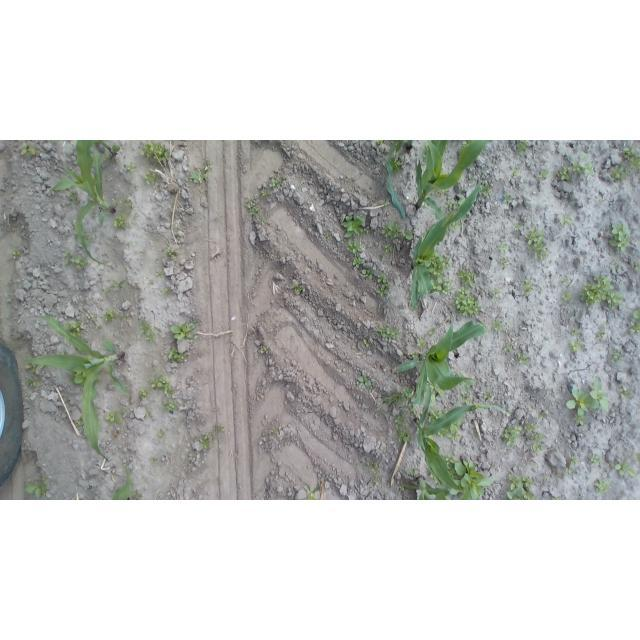Maize: (40, 315, 132, 462), (409, 164, 488, 313), (415, 385, 506, 493), (46, 141, 115, 270), (396, 317, 487, 407), (415, 140, 489, 222), (384, 141, 414, 220), (52, 140, 121, 166), (401, 475, 460, 500), (111, 464, 133, 500), (101, 278, 128, 295)
Weeds: (441, 453, 493, 500), (566, 381, 608, 416), (428, 250, 453, 294), (579, 274, 613, 306), (453, 287, 482, 316), (507, 473, 538, 500), (525, 227, 547, 262), (434, 417, 462, 441), (382, 387, 416, 406), (141, 141, 170, 163), (608, 224, 630, 253), (425, 377, 445, 405), (171, 320, 198, 340), (150, 375, 173, 398), (25, 475, 48, 498), (341, 216, 364, 238), (395, 414, 412, 442), (64, 251, 89, 269), (501, 424, 521, 446), (139, 317, 155, 344), (615, 459, 638, 477), (426, 407, 449, 424), (623, 147, 640, 169), (456, 269, 475, 288), (377, 324, 399, 340), (64, 318, 83, 336), (610, 166, 631, 182), (382, 222, 401, 239), (459, 372, 473, 393), (608, 292, 624, 310), (245, 197, 260, 216), (445, 197, 466, 210), (69, 371, 87, 386), (168, 348, 187, 362), (105, 410, 124, 424), (304, 484, 319, 500), (114, 214, 129, 229), (24, 357, 37, 374), (531, 433, 543, 451), (594, 480, 610, 493), (568, 162, 584, 175), (199, 433, 211, 450), (190, 173, 208, 184), (21, 143, 35, 157), (610, 349, 624, 363), (376, 283, 390, 297), (104, 310, 119, 323), (347, 241, 362, 254), (392, 156, 403, 173), (358, 374, 372, 387), (556, 167, 570, 180), (521, 280, 534, 294), (145, 171, 157, 186), (165, 247, 179, 259), (120, 199, 132, 213), (68, 190, 80, 204), (26, 377, 41, 388), (518, 141, 529, 156), (162, 401, 178, 411), (516, 352, 529, 364), (570, 340, 583, 352), (561, 214, 574, 226), (401, 228, 414, 240), (629, 320, 640, 334), (428, 188, 449, 195), (138, 388, 150, 400), (126, 161, 137, 174), (406, 405, 419, 416), (361, 269, 374, 280), (492, 319, 503, 331), (479, 184, 489, 197), (448, 219, 461, 229), (353, 255, 363, 268), (575, 415, 586, 426), (417, 339, 428, 350), (584, 162, 594, 174), (620, 388, 631, 398), (460, 393, 471, 403), (562, 292, 572, 303), (539, 170, 550, 180), (499, 258, 510, 268), (510, 167, 520, 177), (270, 179, 281, 188), (371, 463, 380, 474), (477, 321, 488, 330), (524, 423, 536, 431), (590, 455, 600, 464), (128, 490, 138, 499), (292, 284, 302, 293), (503, 194, 513, 203), (499, 244, 509, 253), (377, 274, 387, 283), (85, 236, 96, 244), (205, 160, 212, 172), (257, 216, 267, 224), (430, 473, 438, 483), (569, 327, 579, 335), (423, 145, 429, 158), (13, 249, 24, 256), (570, 456, 579, 464), (484, 391, 493, 399), (410, 352, 419, 360), (362, 338, 371, 346), (408, 468, 417, 476), (492, 288, 501, 296), (385, 244, 393, 253), (157, 429, 165, 437), (102, 154, 111, 161), (77, 417, 84, 426), (633, 310, 640, 319), (40, 364, 50, 370), (462, 140, 472, 146), (161, 289, 169, 296), (580, 152, 588, 159), (112, 198, 119, 206), (82, 225, 87, 236), (261, 189, 267, 198), (566, 466, 572, 475), (409, 286, 412, 303), (363, 462, 370, 469), (95, 375, 102, 382), (598, 332, 605, 339), (504, 344, 511, 351), (634, 262, 640, 270), (381, 199, 389, 205), (514, 224, 522, 230), (416, 286, 420, 298), (127, 239, 134, 245), (541, 412, 547, 419), (271, 427, 277, 434), (156, 270, 163, 276), (613, 263, 619, 270), (363, 226, 369, 233), (429, 327, 436, 333), (91, 211, 97, 218), (400, 483, 405, 491), (636, 453, 640, 462), (146, 413, 152, 419), (91, 315, 97, 321), (260, 347, 266, 353), (87, 355, 93, 361), (375, 140, 383, 144), (132, 213, 137, 219), (507, 408, 513, 413), (150, 456, 155, 462), (148, 280, 154, 285), (562, 279, 568, 284), (468, 178, 474, 183), (341, 239, 347, 244), (382, 253, 387, 259), (326, 232, 330, 239), (372, 478, 377, 483), (123, 409, 128, 414), (96, 325, 101, 330), (550, 497, 558, 500), (156, 237, 161, 241), (222, 428, 227, 432), (62, 350, 67, 354), (409, 199, 414, 203), (120, 316, 126, 319), (282, 176, 286, 180), (156, 329, 160, 333), (599, 200, 603, 204), (177, 235, 180, 239)
